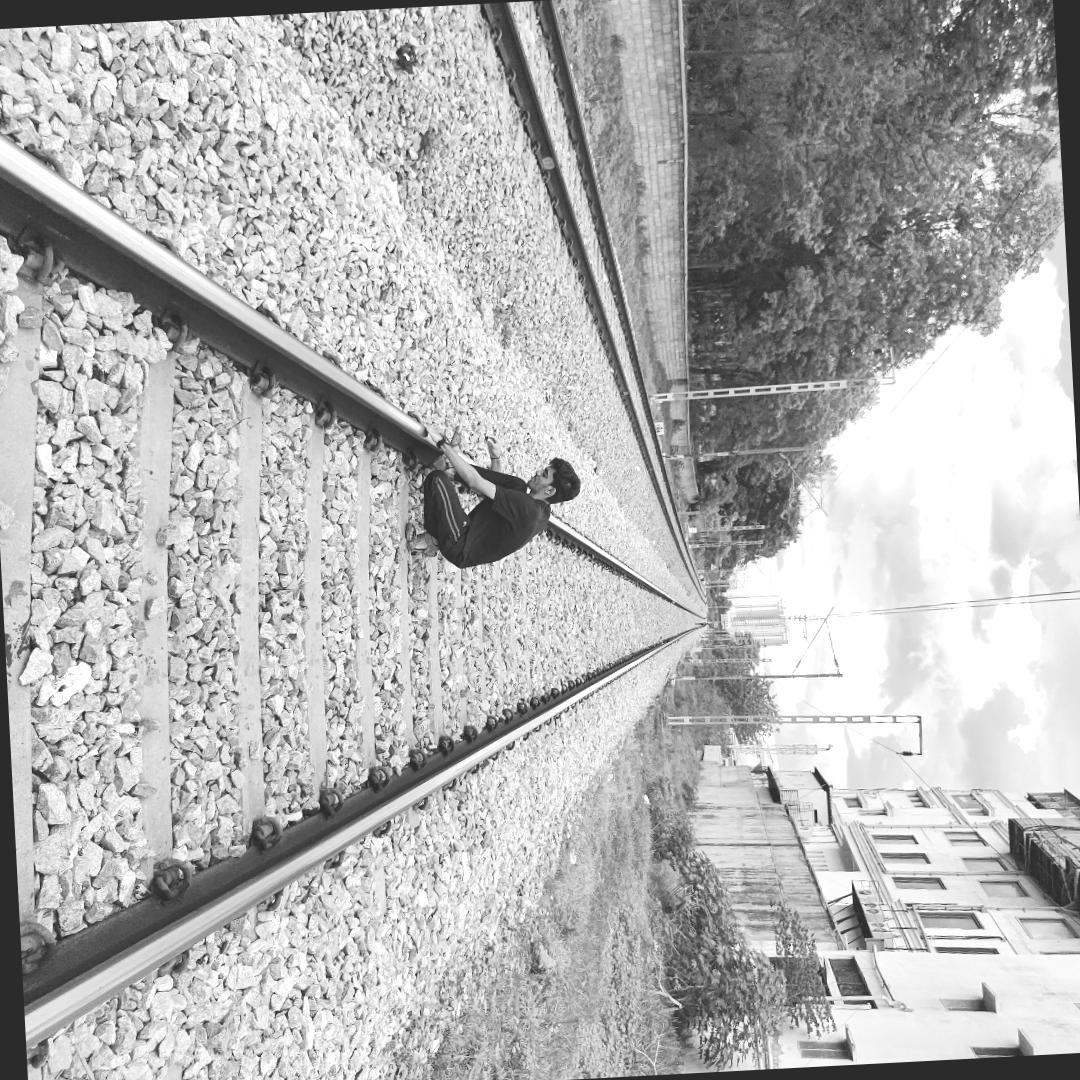sitting: (396, 422, 592, 564)
